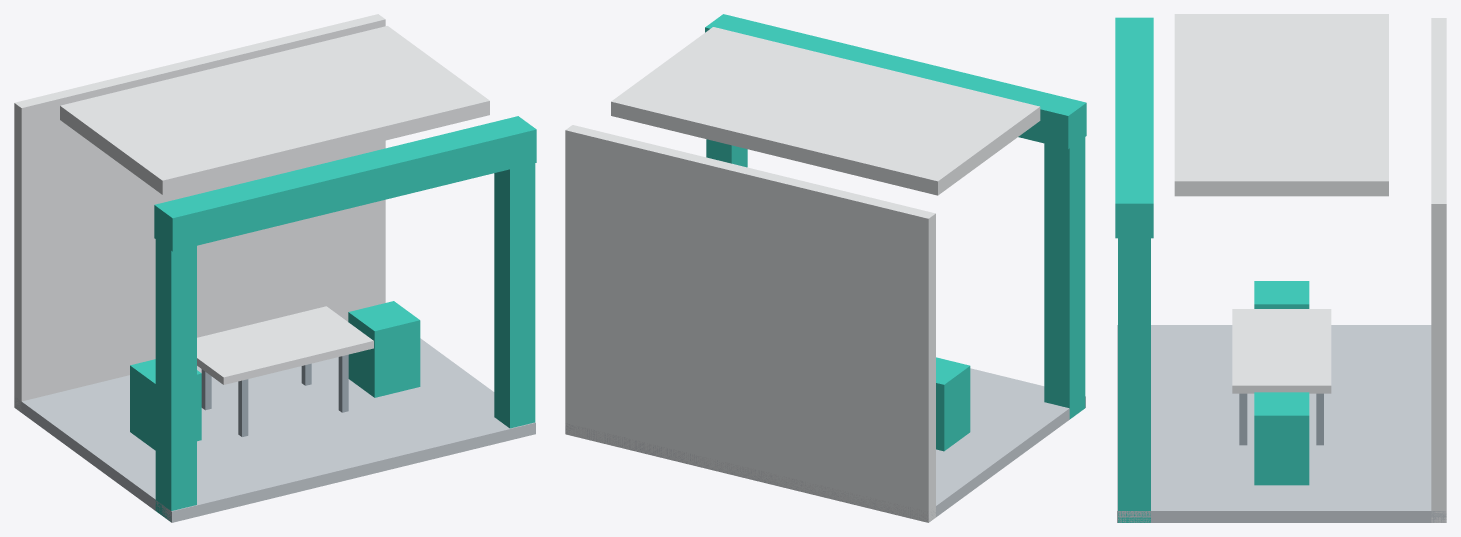
3 renders of one model, left to right at view 1: azimuth 30°, elevation 25°; view 2: azimuth 150°, elevation 25°; view 3: azimuth 270°, elevation 25°, orthographic. The views are drawn at different scales.
Visible parts, largest first — view 1: Exhibition Booth Concept; view 2: Exhibition Booth Concept; view 3: Exhibition Booth Concept.
Boxes of the visible parts, x1,y1,x2,y2 form: Exhibition Booth Concept: [14, 14, 536, 522]; Exhibition Booth Concept: [565, 14, 1086, 522]; Exhibition Booth Concept: [1115, 14, 1446, 522].
Size of the model in its own units: 4 by 3.34 by 3.01.
